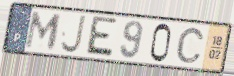0: (149, 22, 172, 63)
9: (119, 20, 145, 60)
C: (175, 27, 206, 65)
E: (84, 15, 119, 60)
J: (59, 14, 87, 55)
M: (23, 10, 64, 51)
